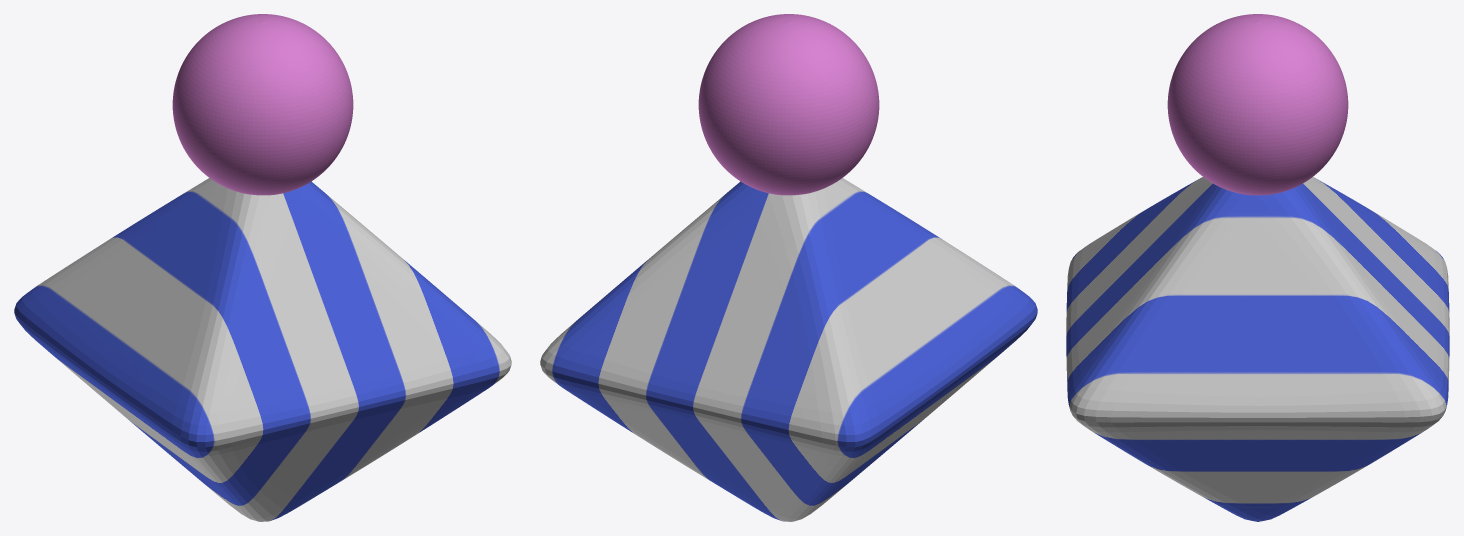
The model's file is BOD4_BMC0_BCC13_BPT1_FRC0_HEA0_HMC10_HCC0_HPT0_ELT0_ERT0_ELL0_ERL0_AP0_AAL0_AAR0_BEK0.fbx.
3 views of the same model, side by side, from view 1: azimuth 30°, elevation 25°; view 2: azimuth 150°, elevation 25°; view 3: azimuth 270°, elevation 25° (orthographic).
Parts seen in each view (by area): view 1: Body, Head; view 2: Body, Head; view 3: Body, Head.
Part boxes in pixels (bbox=[...]): Body: bbox=[14, 178, 511, 521]; Head: bbox=[172, 14, 353, 195]; Body: bbox=[540, 178, 1037, 521]; Head: bbox=[698, 14, 879, 195]; Body: bbox=[1066, 177, 1449, 521]; Head: bbox=[1167, 14, 1348, 195].
Size of the model in its own units: 105 by 150 by 105.
2 materials, 2 textured.
